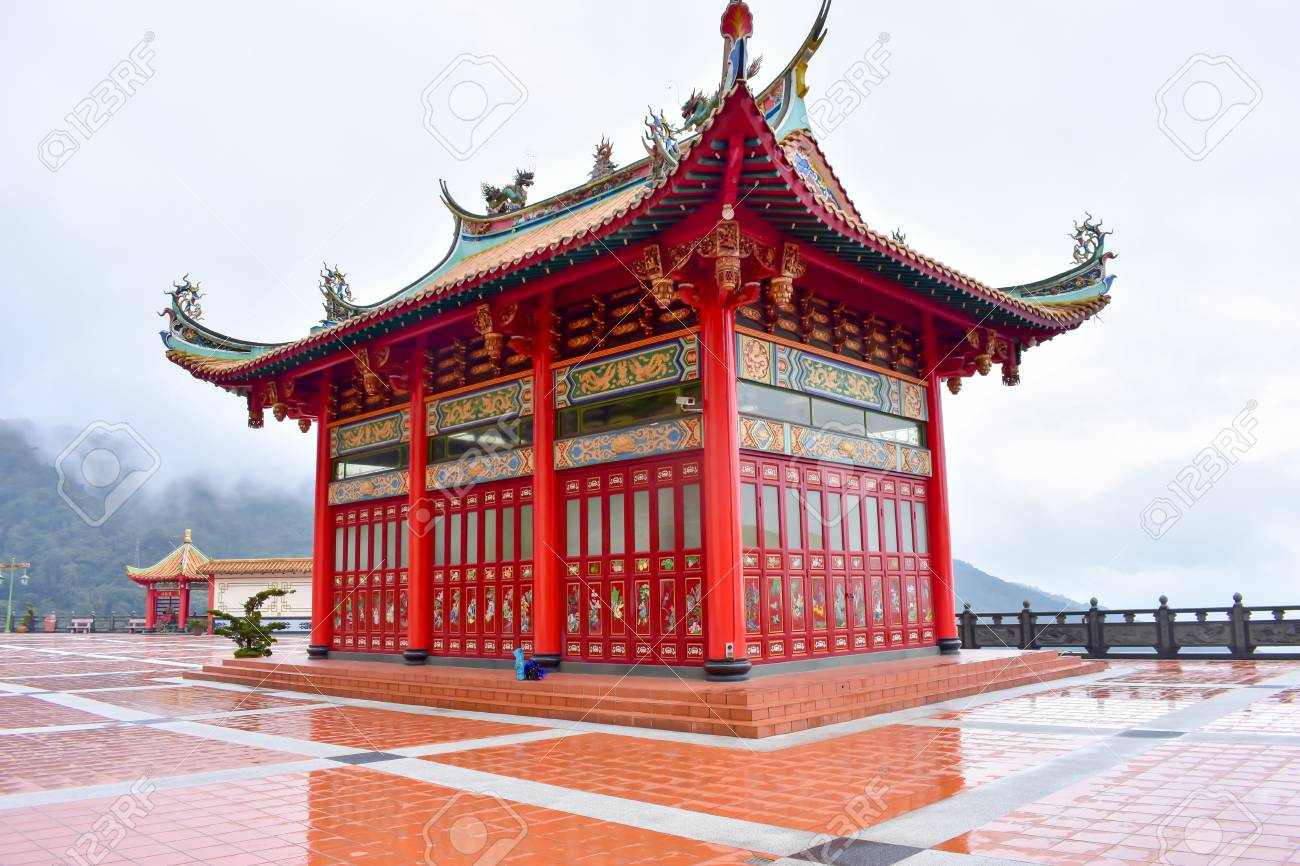Buddhist Temple: (195, 9, 1038, 655)
